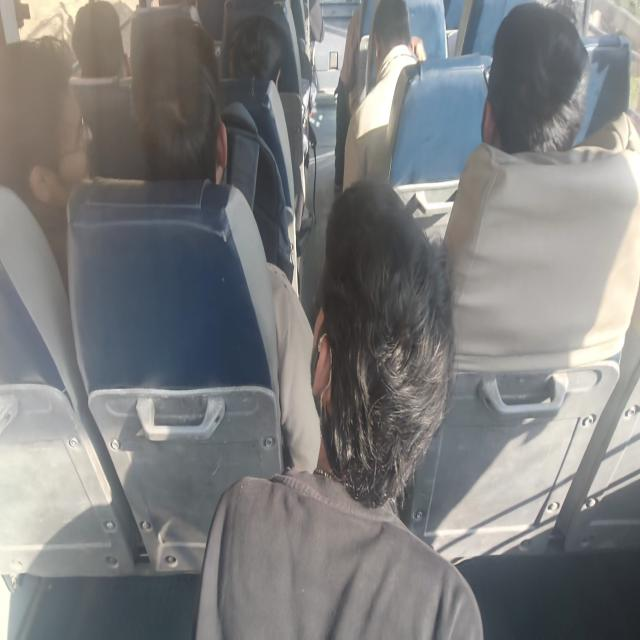person: (328, 198, 488, 602), (464, 25, 633, 218), (133, 20, 264, 194), (0, 50, 96, 237), (364, 8, 436, 106), (234, 17, 304, 106), (65, 7, 133, 80)
